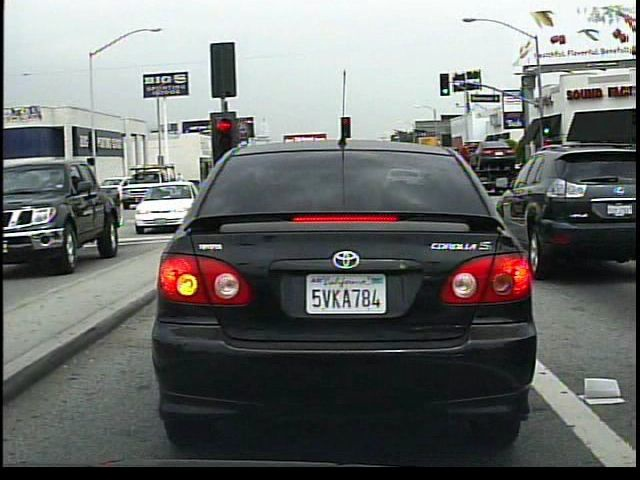person: (172, 167, 194, 193)
